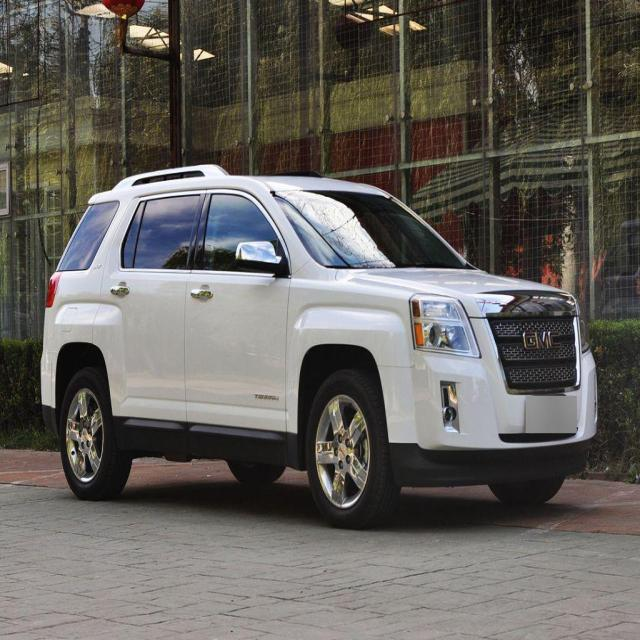back_right_side_light: (44, 269, 64, 311)
door: (103, 189, 208, 417)
front_bumper: (374, 348, 599, 487)
front_glass: (269, 188, 479, 271)
front_left_side_light: (575, 298, 592, 354)
front_right_side_door: (183, 184, 293, 436)
front_right_side_light: (408, 291, 482, 360)
front_right_side_mirror: (235, 238, 288, 275)
wheel: (304, 370, 400, 528), (59, 369, 132, 501)
